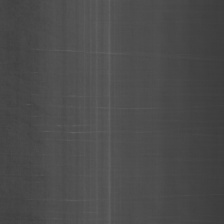waist_folding: (52, 12, 129, 222)
